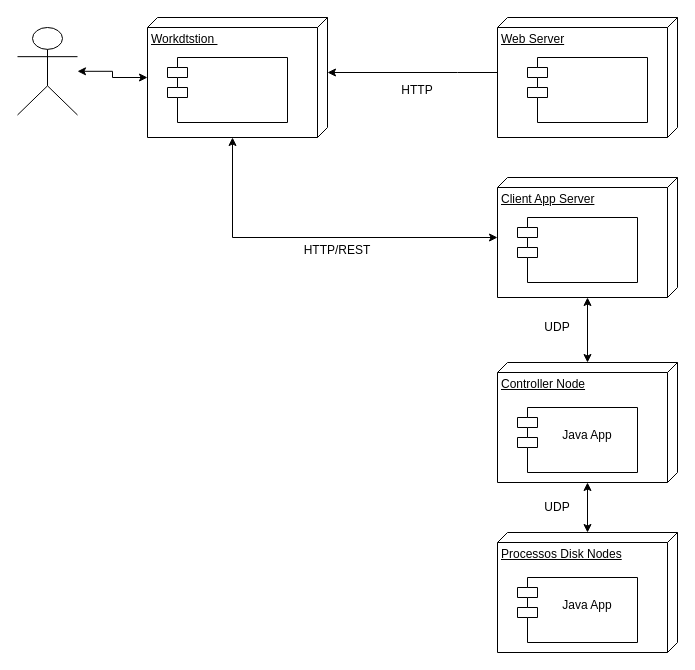
This 695x670 diagram has some shape labels left out. The centre of each missing label's shape, as x and y in pixels:
Actor: [47,70]
Angular App: [587,89]
Browser: [227,89]
Java API Springboot: [577,249]
